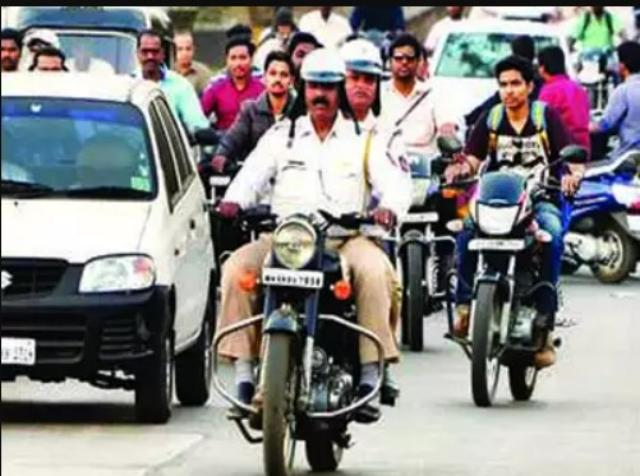licensePlate: (258, 266, 332, 292), (466, 238, 528, 254)
motorcycle: (217, 29, 392, 476), (445, 57, 586, 405), (378, 27, 452, 356)
withHelmet: (294, 54, 354, 123), (341, 36, 388, 112)
withoutHelmet: (494, 58, 540, 107), (389, 29, 425, 82)
